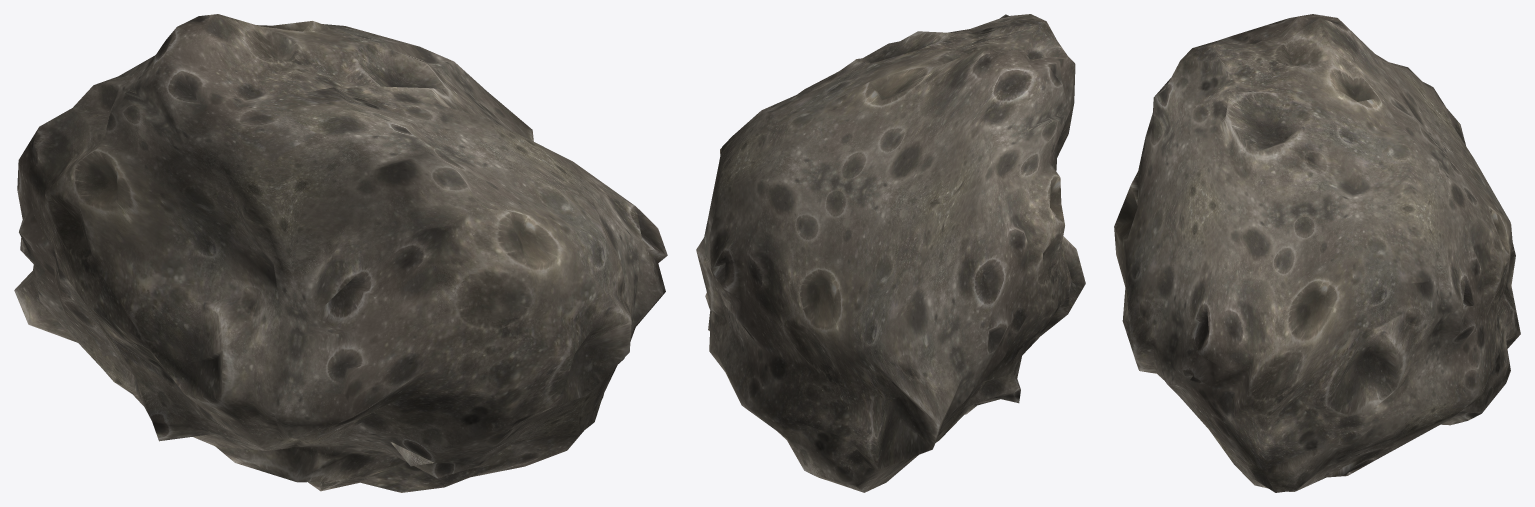
The model's file is Asteroid_01_L1.FBX.
The picture shows the model from 3 angles, left to right: view 1: azimuth 30°, elevation 25°; view 2: azimuth 150°, elevation 25°; view 3: azimuth 270°, elevation 25°; orthographic projection. The views are drawn at different scales.
Parts seen in each view (by area): view 1: Asteroid; view 2: Asteroid; view 3: Asteroid.
Boxes of the visible parts, x1=… form: Asteroid: x1=14, y1=14, x2=667, y2=492; Asteroid: x1=696, y1=14, x2=1085, y2=492; Asteroid: x1=1114, y1=14, x2=1520, y2=492.
Bounding box in the file's own units: 2.39 × 2.41 × 2.31.
